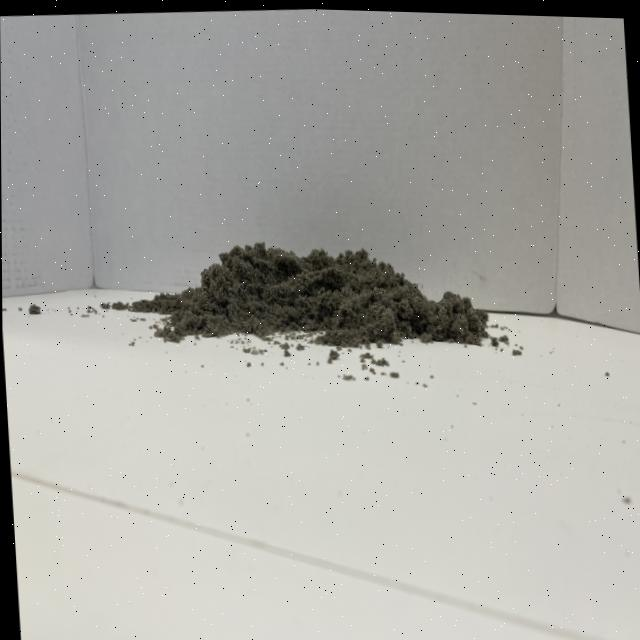sand: (143, 212, 476, 374)
